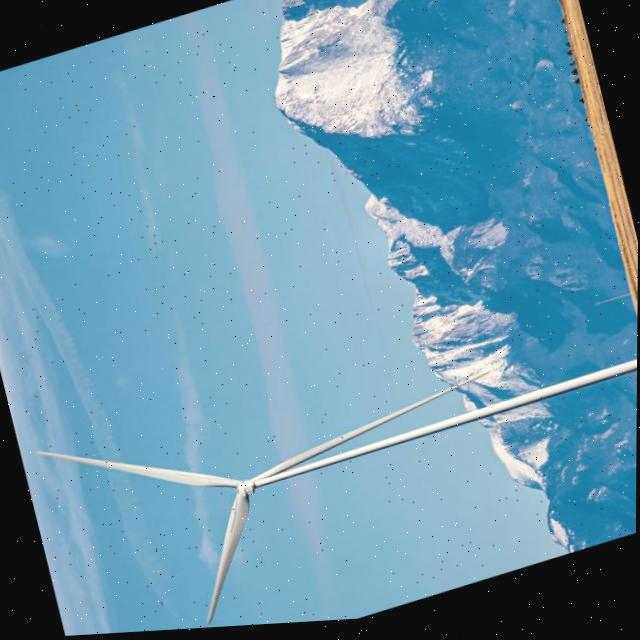solid-blade: (254, 380, 483, 480), (38, 450, 241, 489), (208, 495, 249, 624)
